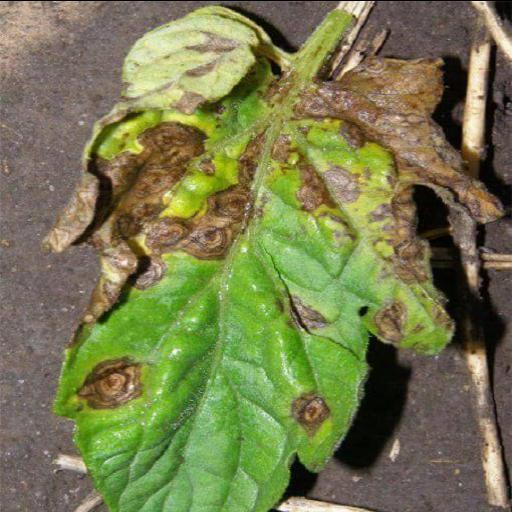Early Blight: (43, 6, 494, 510)
